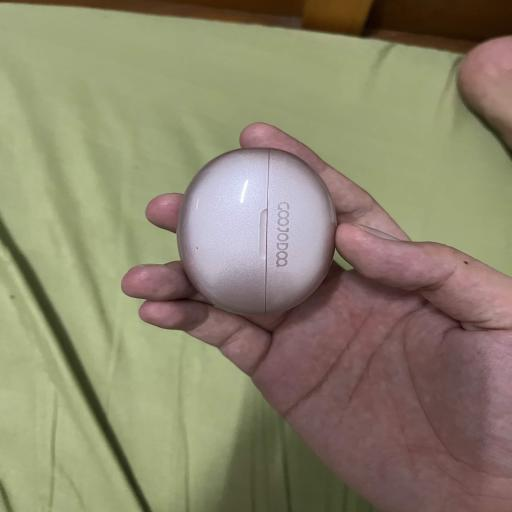GOOJODOQ: (177, 148, 336, 315)
